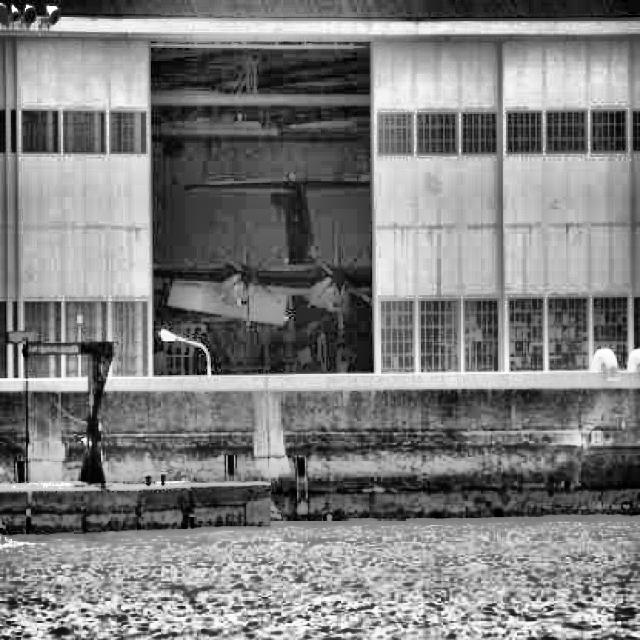US2: (151, 174, 374, 375)
